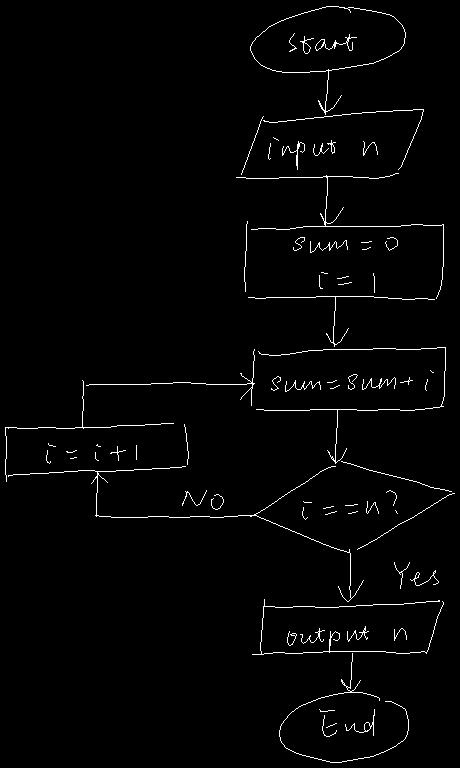arrow: (82, 373, 254, 428), (91, 472, 254, 517), (338, 549, 363, 601), (320, 175, 343, 226), (326, 297, 348, 346), (318, 69, 341, 114), (327, 410, 346, 463), (341, 653, 360, 691)
data: (236, 109, 423, 178), (252, 599, 443, 654)
decision: (250, 461, 454, 552)
process: (244, 221, 443, 299), (251, 347, 445, 410), (5, 423, 188, 481)
terminator: (250, 6, 405, 72), (279, 692, 408, 762)
text: (293, 237, 397, 292), (268, 137, 377, 169), (271, 370, 433, 391), (287, 626, 406, 652), (302, 490, 397, 519), (46, 443, 136, 463), (319, 709, 374, 736), (289, 33, 356, 53), (394, 562, 438, 588), (182, 490, 223, 509)
